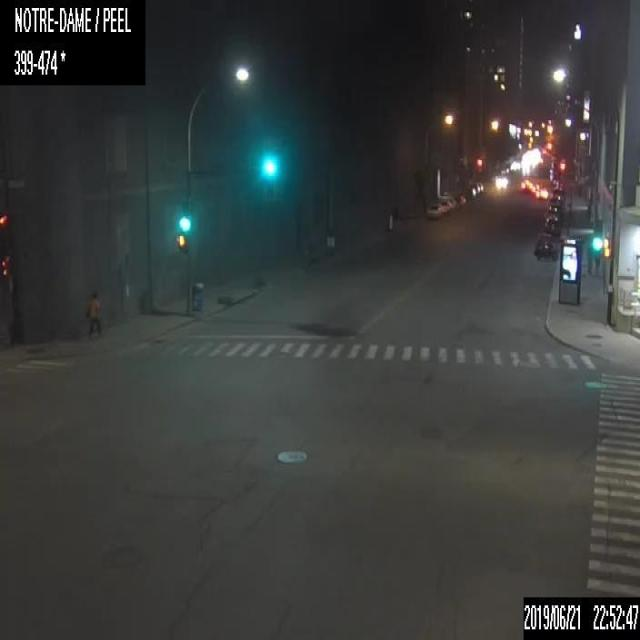pedestrian: (84, 287, 104, 337)
vehicle: (536, 243, 557, 262), (544, 214, 559, 235), (426, 202, 442, 218), (552, 188, 564, 208), (546, 194, 559, 212), (536, 232, 552, 246), (438, 198, 450, 212), (463, 185, 475, 198), (535, 187, 547, 199), (521, 178, 531, 192), (470, 181, 479, 191)
